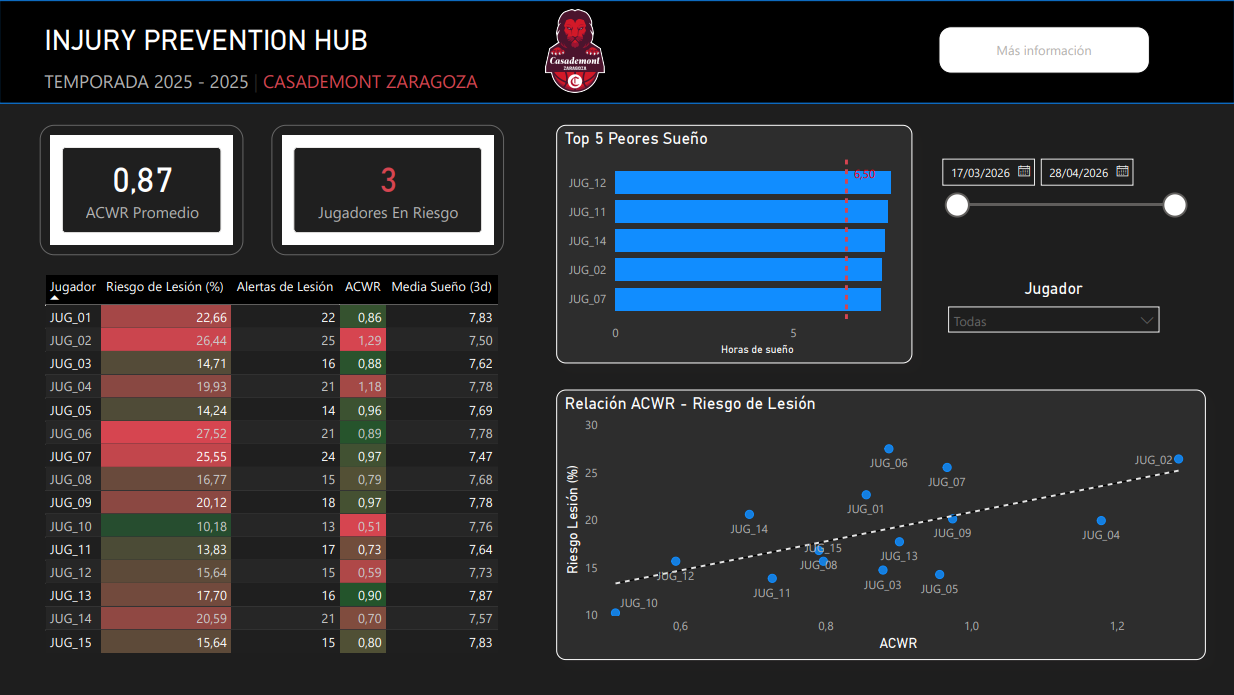

The page's visual inventory and layout, read from the dashboard file:
{"tool":"powerbi","page":{"name":"Cuadro de mando","canvas":[1280,720],"ordinal":0},"visuals":[{"type":"shape","box":[0,0,1280,106.7],"z":0},{"type":"tableEx","fields":{"Values":["dataset_powerbi_casademont.ID_Jugador","Avg(dataset_powerbi_casademont.Riesgo_Lesion_%)","Sum(dataset_powerbi_casademont.Alerta_Modelo)","Avg(dataset_powerbi_casademont.acwr)","Avg(dataset_powerbi_casademont.media_sueno_3d)"]},"box":[42.2,278.9,480,404.4],"z":1000},{"type":"cardVisual","fields":{"Data":["dataset_powerbi_casademont.Jugadores En Riesgo"]},"box":[282.2,128.9,241.1,135.6],"z":2000},{"type":"cardVisual","fields":{"Data":["Avg(dataset_powerbi_casademont.acwr)"]},"box":[42.2,128.9,211.1,135.6],"z":3000},{"type":"slicer","fields":{"Values":["dataset_powerbi_casademont.Fecha"]},"box":[964.4,154.4,274.4,84.4],"z":4000},{"type":"clusteredBarChart","title":"Top 5 Peores Sueño","fields":{"Category":["dataset_powerbi_casademont.ID_Jugador"],"Y":["Avg(dataset_powerbi_casademont.media_sueno_3d)"]},"box":[576.7,128.9,368.9,246.7],"z":5000},{"type":"scatterChart","title":"Relación ACWR - Riesgo de Lesión","fields":{"X":["Avg(dataset_powerbi_casademont.acwr)"],"Y":["Avg(dataset_powerbi_casademont.Riesgo_Lesion_%)"],"Category":["dataset_powerbi_casademont.ID_Jugador"]},"box":[576.7,403.3,673.3,280],"z":6000},{"type":"actionButton","title":"Más información","box":[973.3,26.7,218.9,48.9],"z":7000},{"type":"slicer","title":"Jugador","fields":{"Values":["dataset_powerbi_casademont.ID_Jugador"]},"box":[973.3,287.8,238.9,72.2],"z":8000},{"type":"textbox","box":[42.2,20,350,65.6],"z":9000},{"type":"textbox","box":[42.2,65.6,464.4,40],"z":10000},{"type":"image","box":[553.3,10,86.7,85.6],"z":11000}]}

Visuals, with their boxes in screenshot pixels (x1, y1, x2, y2), scaled from the page's 1280x720 canvas onto the 1234x695 screenshot:
shape: x1=0, y1=0, x2=1233, y2=103
tableEx - dataset_powerbi_casademont.ID_Jugador x Avg(dataset_powerbi_casademont.Riesgo_Lesion_%): x1=41, y1=269, x2=503, y2=660
cardVisual - dataset_powerbi_casademont.Jugadores En Riesgo: x1=272, y1=124, x2=504, y2=255
cardVisual - Avg(dataset_powerbi_casademont.acwr): x1=41, y1=124, x2=244, y2=255
slicer - dataset_powerbi_casademont.Fecha: x1=930, y1=149, x2=1194, y2=231
"Top 5 Peores Sueño" clusteredBarChart: x1=556, y1=124, x2=912, y2=363
"Relación ACWR - Riesgo de Lesión" scatterChart: x1=556, y1=389, x2=1205, y2=660
"Más información" actionButton: x1=938, y1=26, x2=1149, y2=73
"Jugador" slicer: x1=938, y1=278, x2=1169, y2=348
textbox: x1=41, y1=19, x2=378, y2=83
textbox: x1=41, y1=63, x2=488, y2=102
image: x1=533, y1=10, x2=617, y2=92
